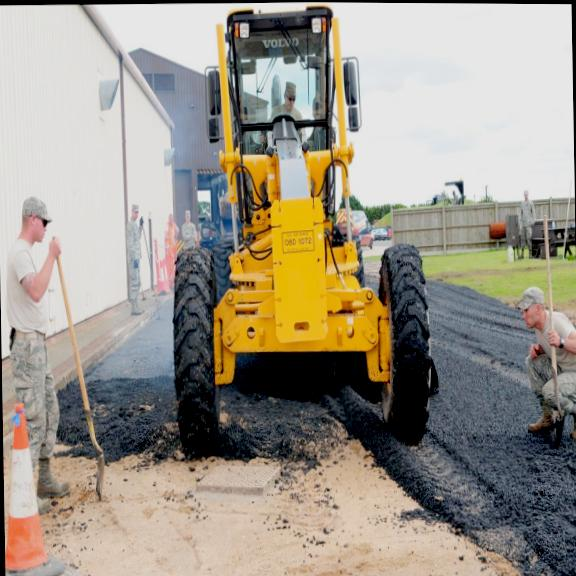no_safety_vest: (0, 237, 50, 337), (530, 306, 576, 372), (123, 213, 144, 266), (179, 218, 198, 243), (518, 197, 534, 224)
safety_vest: (162, 219, 178, 247)
